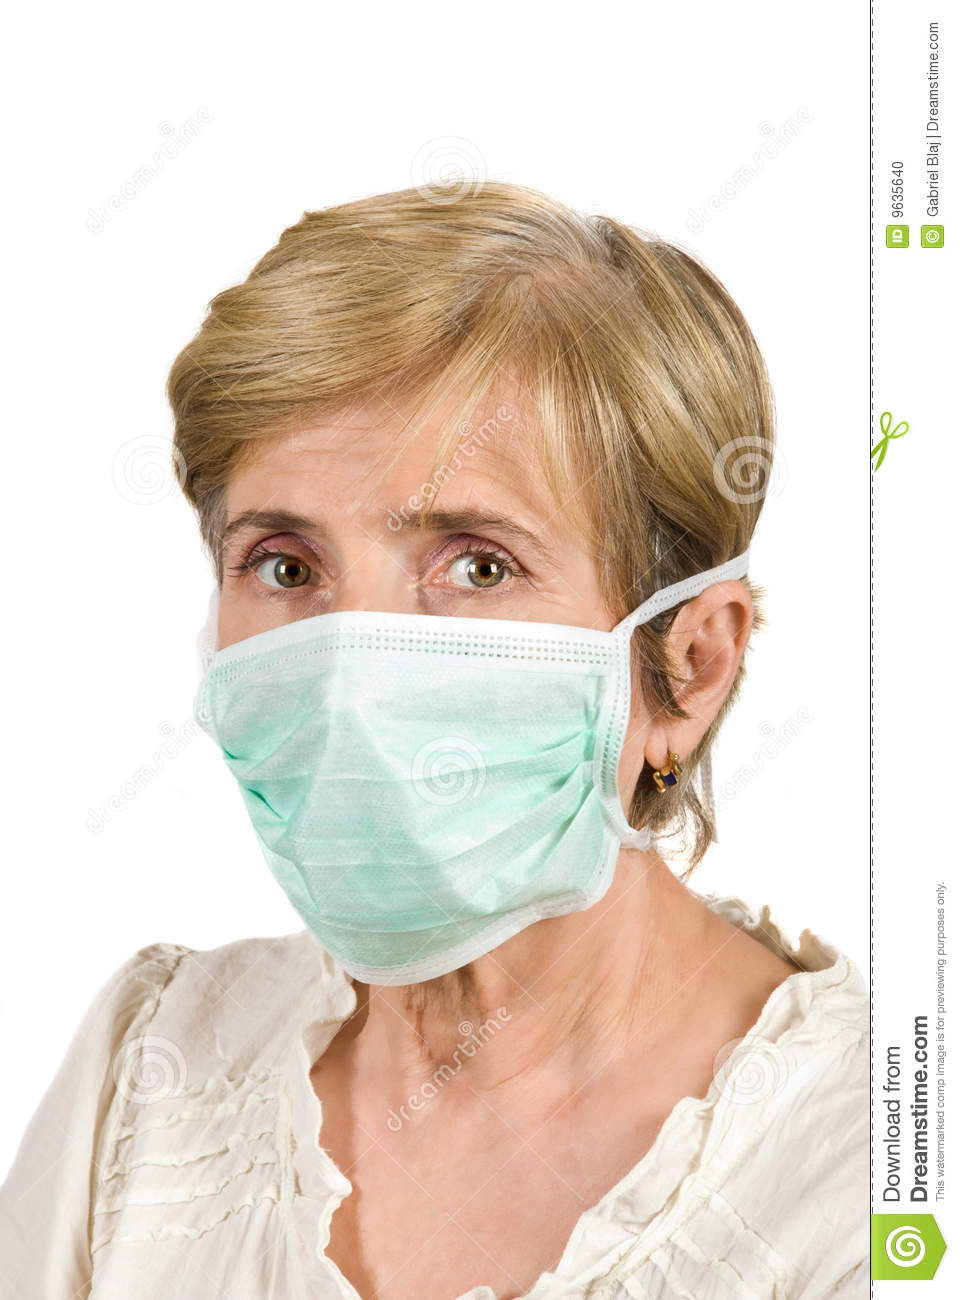mask: (196, 606, 655, 980)
